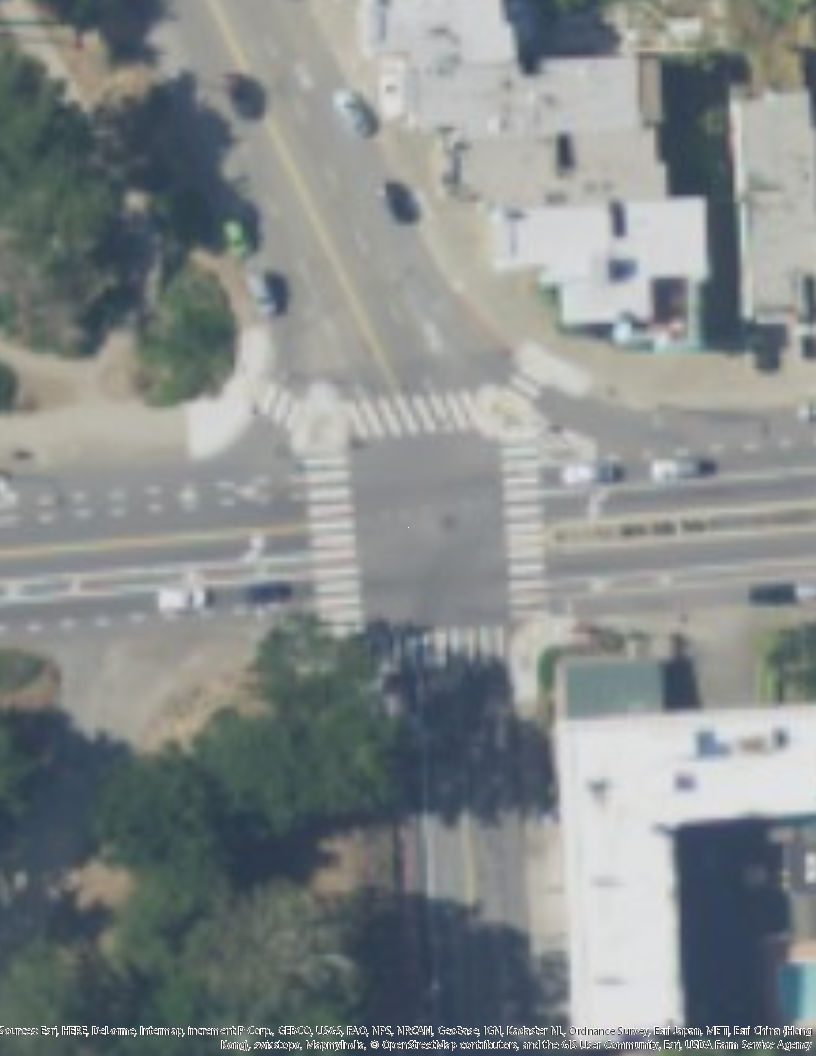zebracross: (300, 446, 368, 626), (505, 445, 547, 619), (384, 628, 509, 670), (347, 395, 479, 431), (256, 385, 301, 430), (506, 363, 543, 408)
